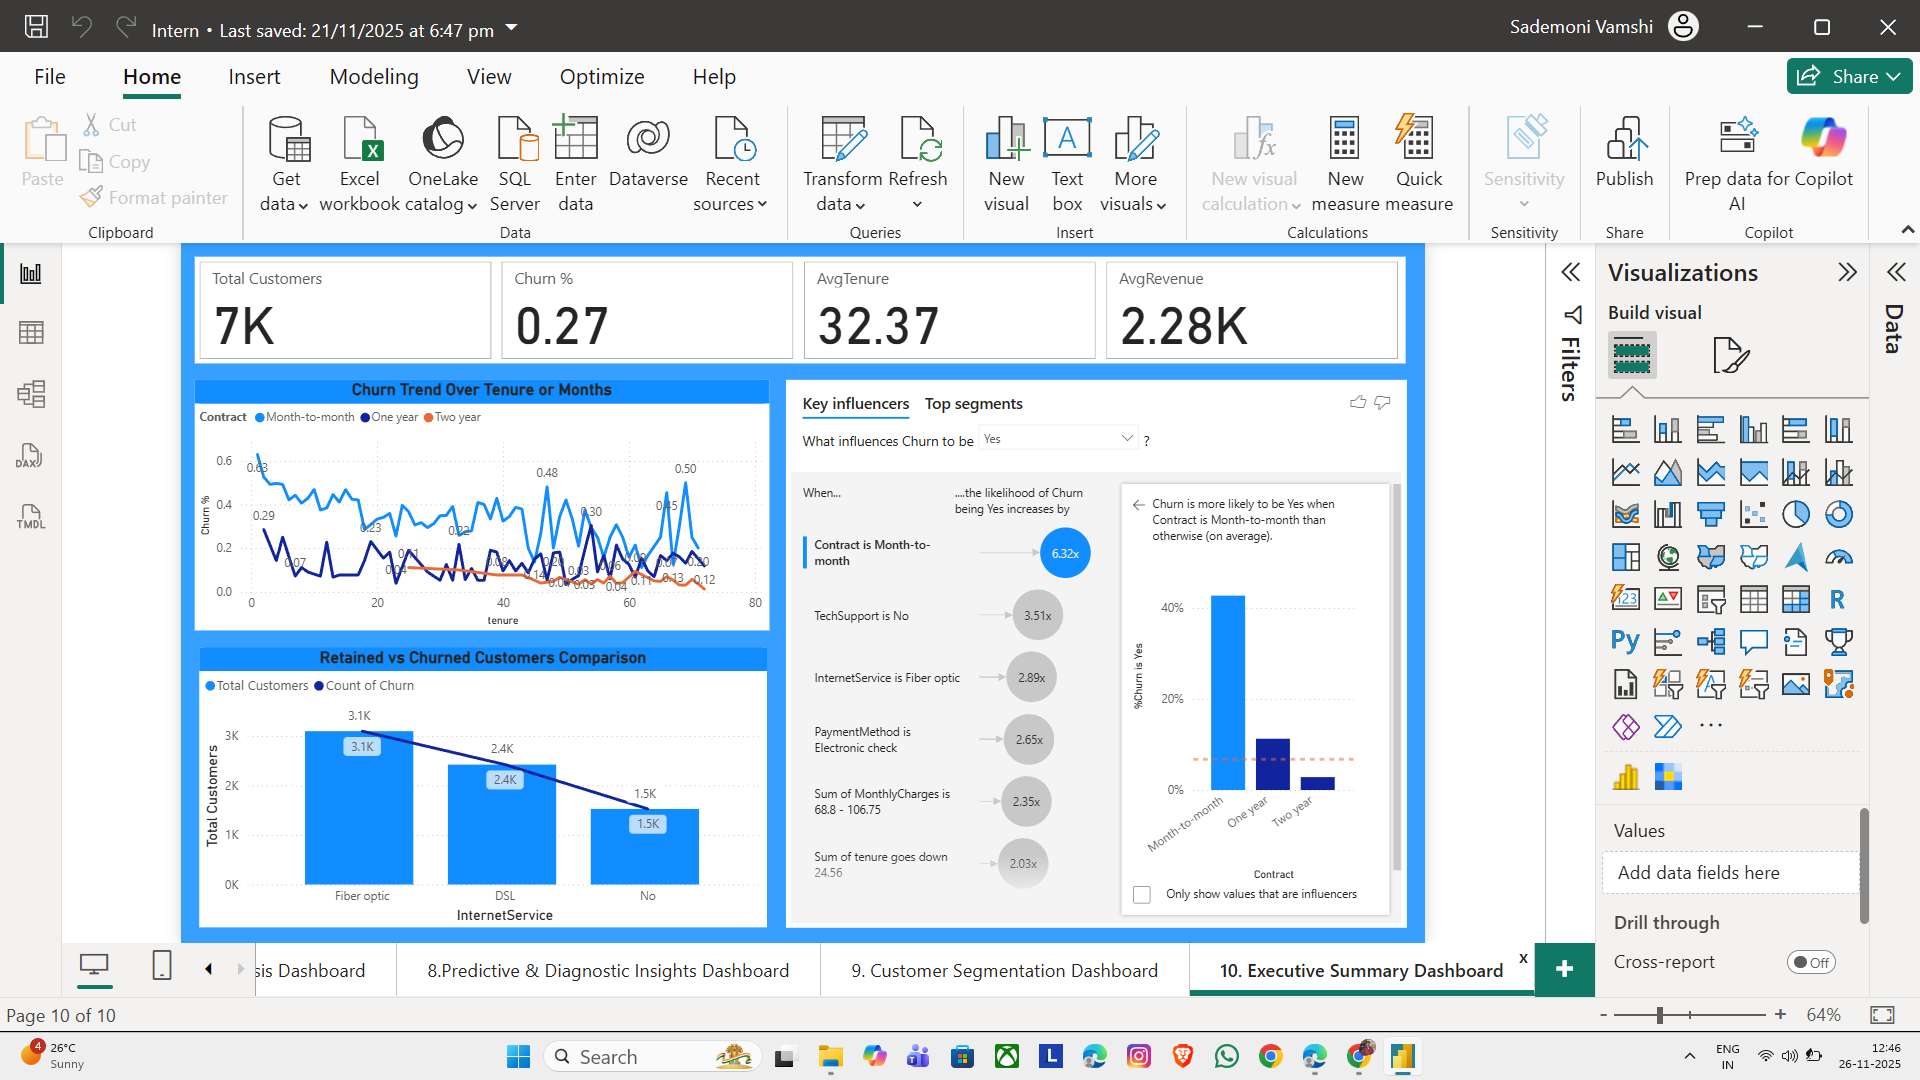

The page's visual inventory and layout, read from the dashboard file:
{"tool":"powerbi","page":{"name":"10. Executive Summary Dashboard","canvas":[1280,720],"ordinal":9},"visuals":[{"type":"cardVisual","fields":{"Data":["Telco_Customer_Churn.Total Customers","Telco_Customer_Churn.Churn %","Telco_Customer_Churn.AvgTenure","Telco_Customer_Churn.AvgRevenue"]},"box":[14,14,1246,110],"z":0},{"type":"lineChart","title":"Churn Trend Over Tenure or Months","fields":{"Category":["Telco_Customer_Churn.tenure"],"Y":["Telco_Customer_Churn.Churn %"],"Series":["Telco_Customer_Churn.Contract"]},"box":[14.1,140.8,591.2,258.1],"z":1000},{"type":"keyDriversVisual","fields":{"Target":["Telco_Customer_Churn.Churn"],"ExplainBy":["Telco_Customer_Churn.Contract","Telco_Customer_Churn.InternetService","Telco_Customer_Churn.TechSupport","Telco_Customer_Churn.PaymentMethod","Sum(Telco_Customer_Churn.tenure)","Sum(Telco_Customer_Churn.MonthlyCharges)"]},"box":[622,140,638,564],"z":2000},{"type":"lineStackedColumnComboChart","title":"Retained vs Churned Customers Comparison","fields":{"Category":["Telco_Customer_Churn.InternetService"],"Y":["Telco_Customer_Churn.Total Customers"],"Y2":["CountNonNull(Telco_Customer_Churn.Churn)"]},"box":[18,416,584,288],"z":3000}]}

Visuals, with their boxes on the page's 1280x720 design canvas (x1, y1, x2, y2). These are canvas units, not pixel positions in the 1920x1080 screenshot, which may show the page scaled, cropped or inside an application window:
cardVisual - Telco_Customer_Churn.Total Customers x Telco_Customer_Churn.Churn %: detection(14, 14, 1260, 124)
"Churn Trend Over Tenure or Months" lineChart: detection(14, 141, 605, 399)
keyDriversVisual - Telco_Customer_Churn.Churn x Telco_Customer_Churn.Contract: detection(622, 140, 1260, 704)
"Retained vs Churned Customers Comparison" lineStackedColumnComboChart: detection(18, 416, 602, 704)
